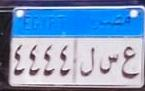4: (43, 42, 58, 78), (13, 42, 25, 79), (28, 44, 41, 78), (59, 40, 70, 77)
س: (99, 51, 116, 76)
ع: (117, 43, 136, 80)
ل: (76, 44, 97, 77)
